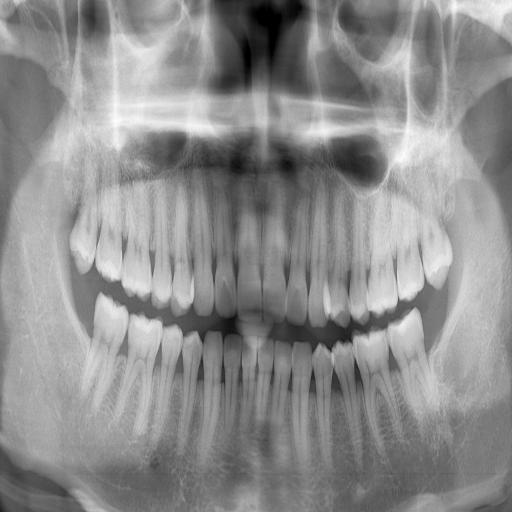Wisdom teeth: (70, 197, 97, 273), (422, 219, 451, 289)
